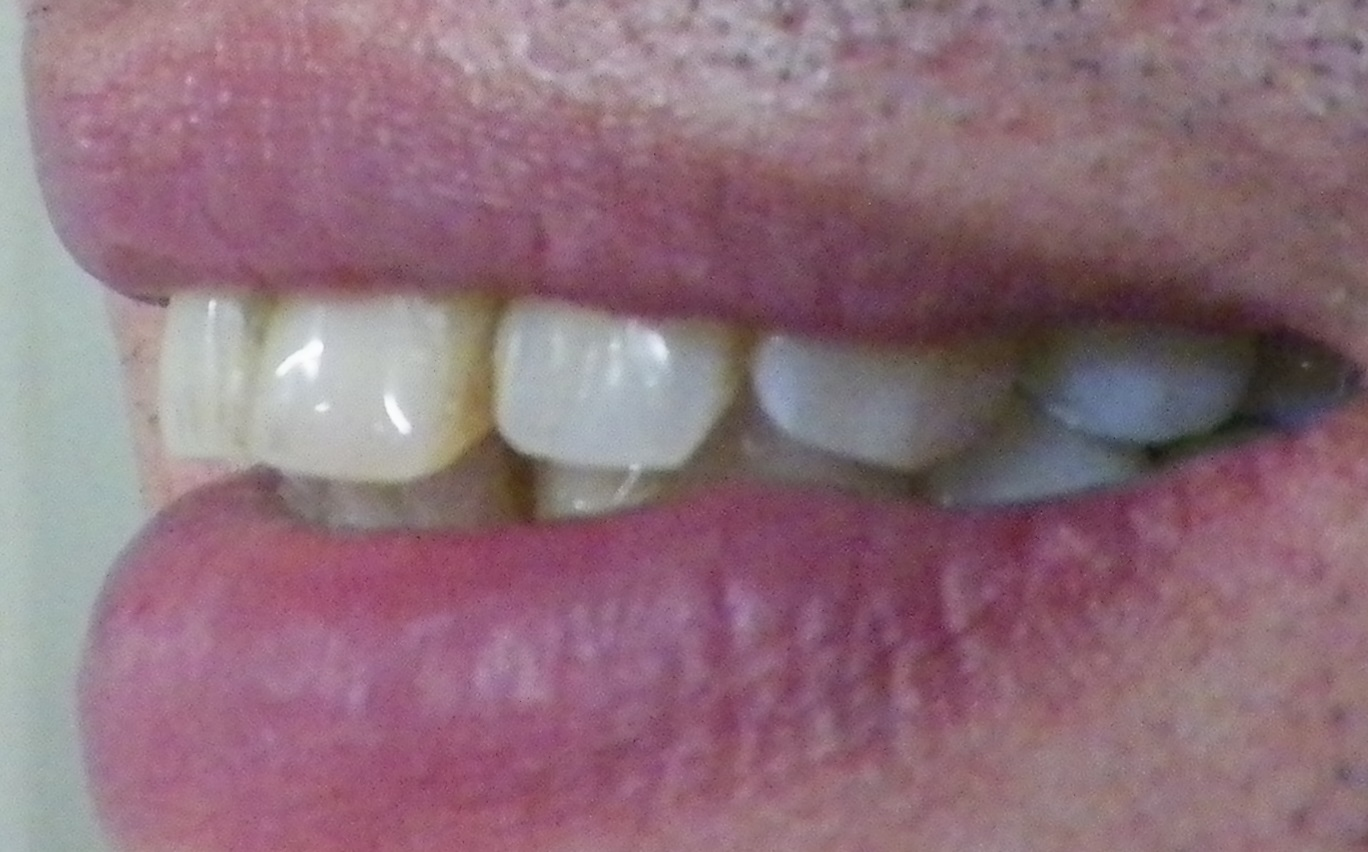boca: (128, 263, 1368, 519)
